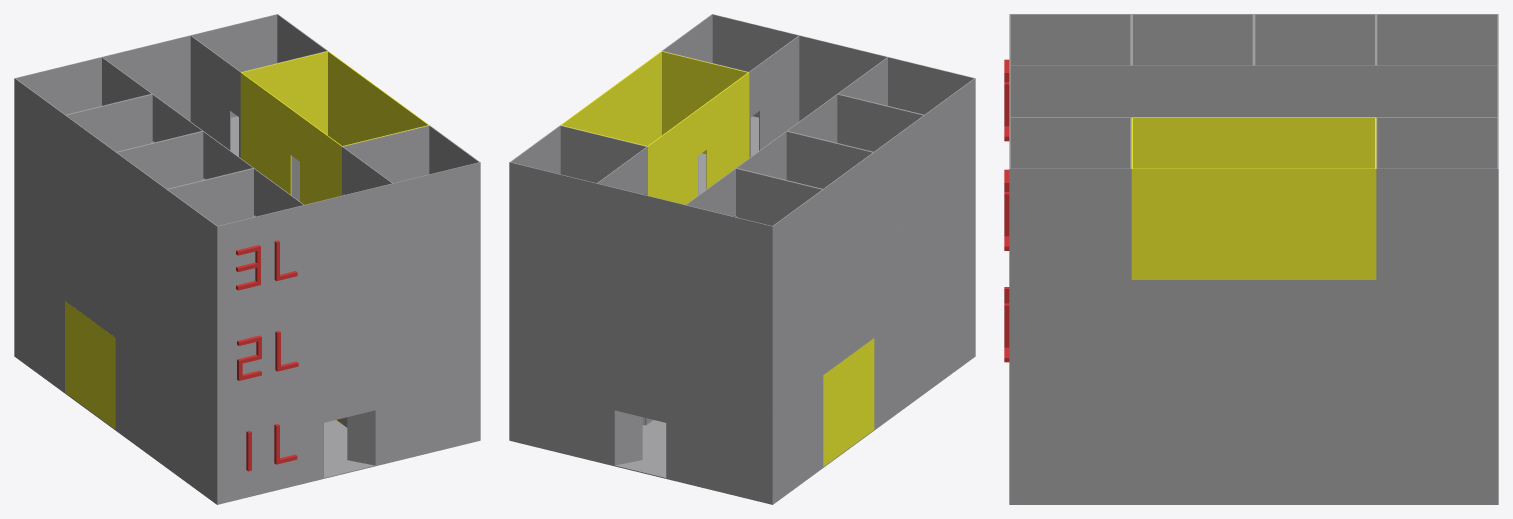
The model's file is 第三组.glb.
The picture shows the model from 3 angles, left to right: view 1: azimuth 30°, elevation 25°; view 2: azimuth 150°, elevation 25°; view 3: azimuth 270°, elevation 25°; orthographic projection. The views are drawn at different scales.
Size of the model in its own units: 0.015 by 0.0151 by 0.0202.
